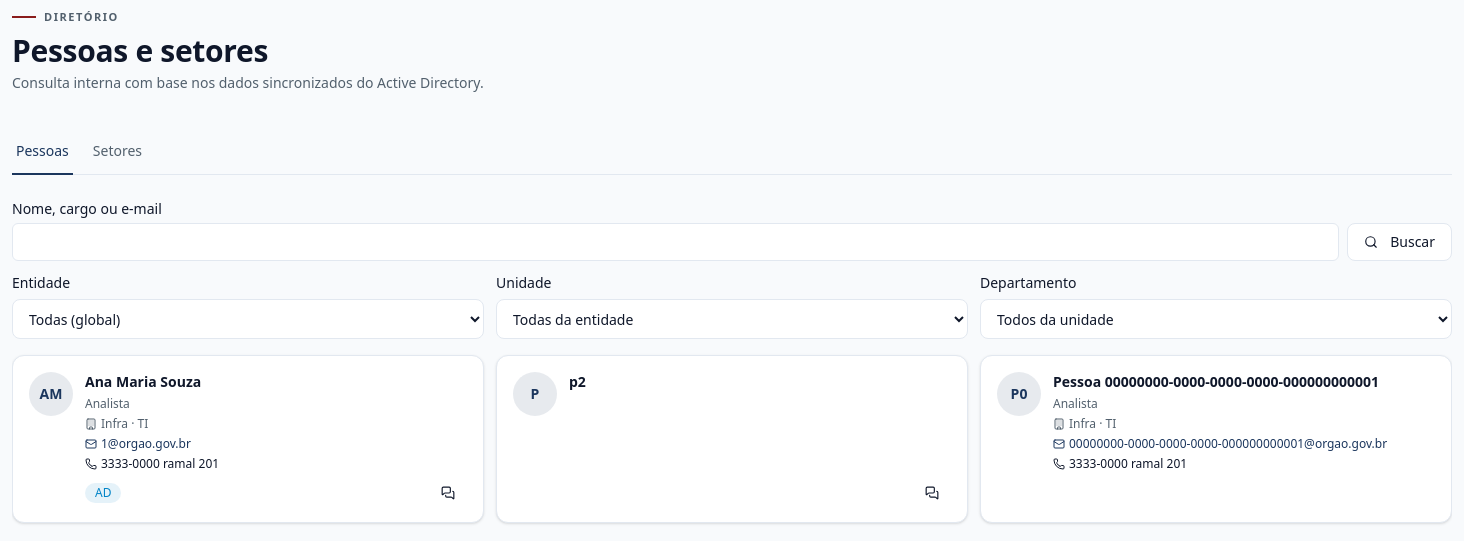
Diretório › busca pessoas, filtra por lotação e abre conversa no Mercúrio
The image size is (1464, 541).
Expected: the text "Ana Maria Souza" is shown, [85,372,201,391]
Expected: the text "AM" is shown, [29,372,73,416]
Click the button named "Conversar com Ana Maria Souza" at [448, 493], box [429,480,467,506]
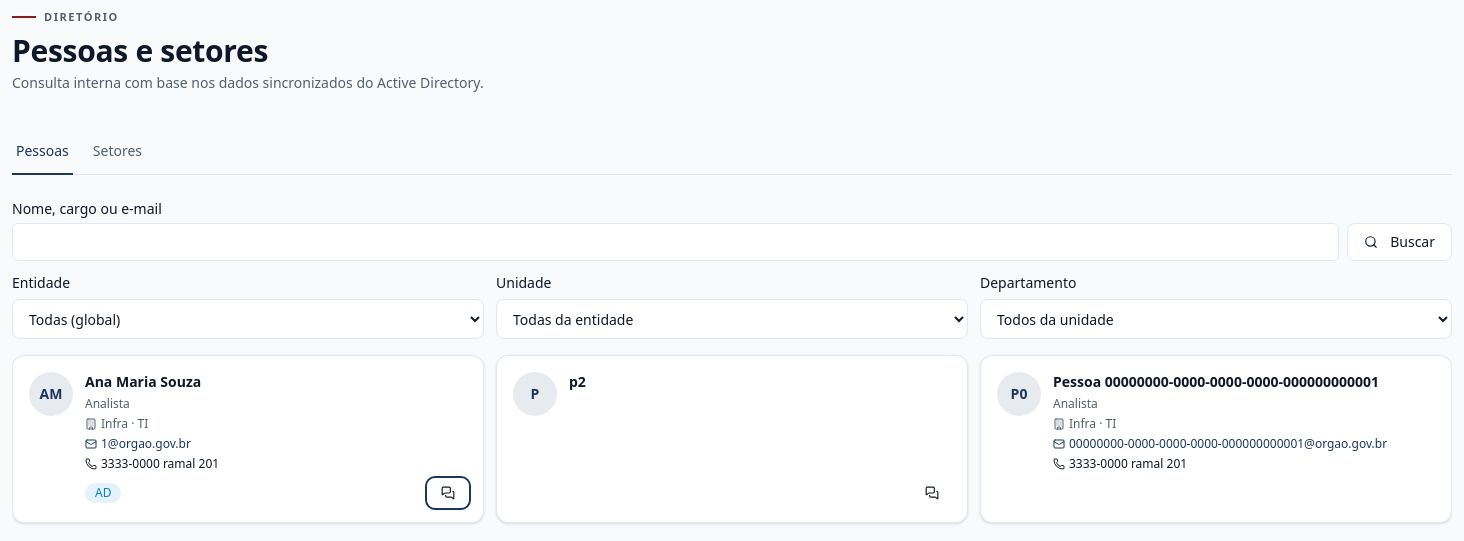
Select "Órgão" in the dropdown labelled "Entidade" at [248, 319], box [12,299,484,339]
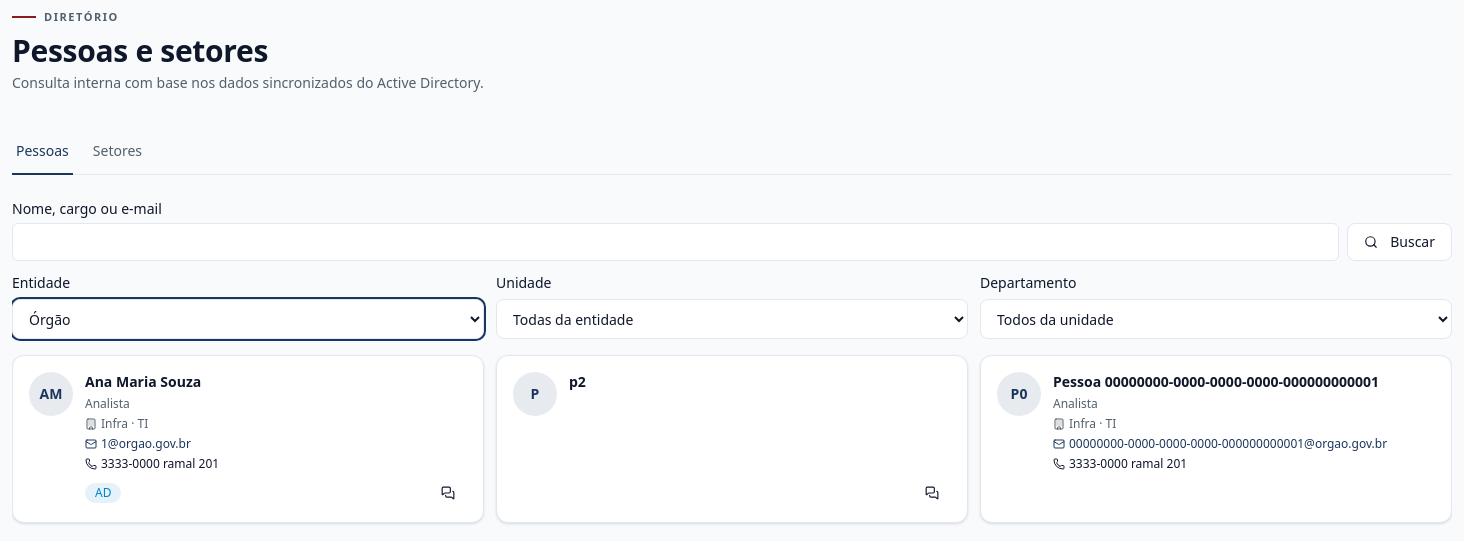
Select "TI" in the dropdown labelled "Unidade" at [732, 319], box [496,299,968,339]
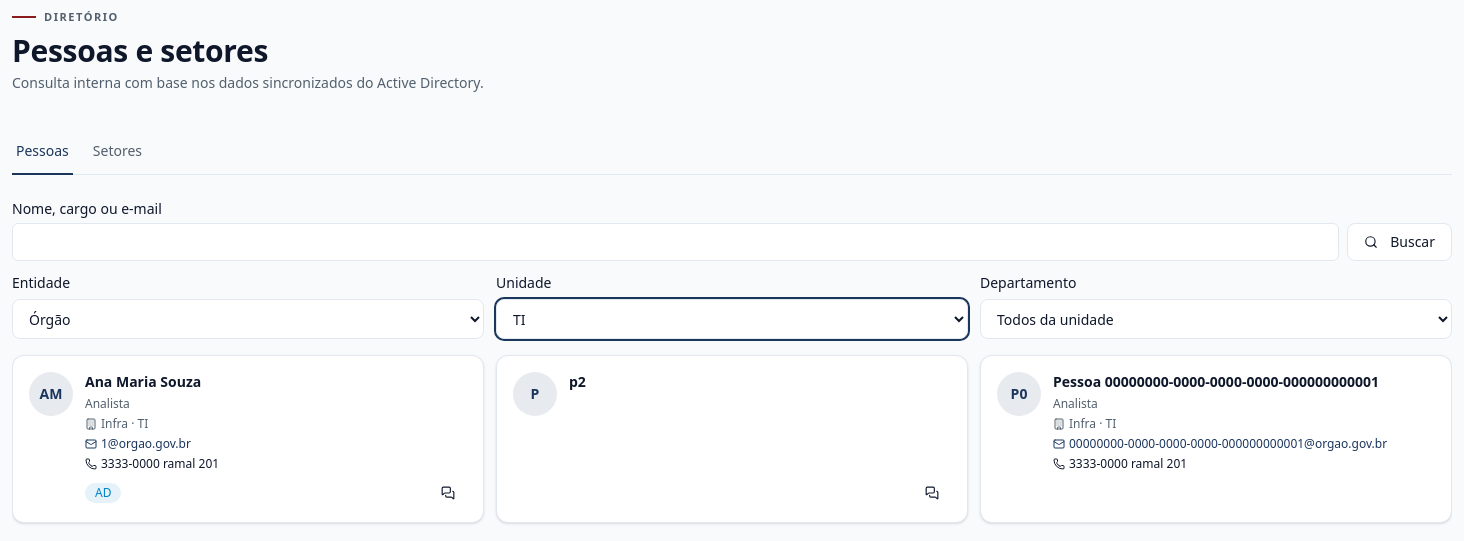
Select "Infra" in the dropdown labelled "Departamento" at [1216, 319], box [980,299,1452,339]
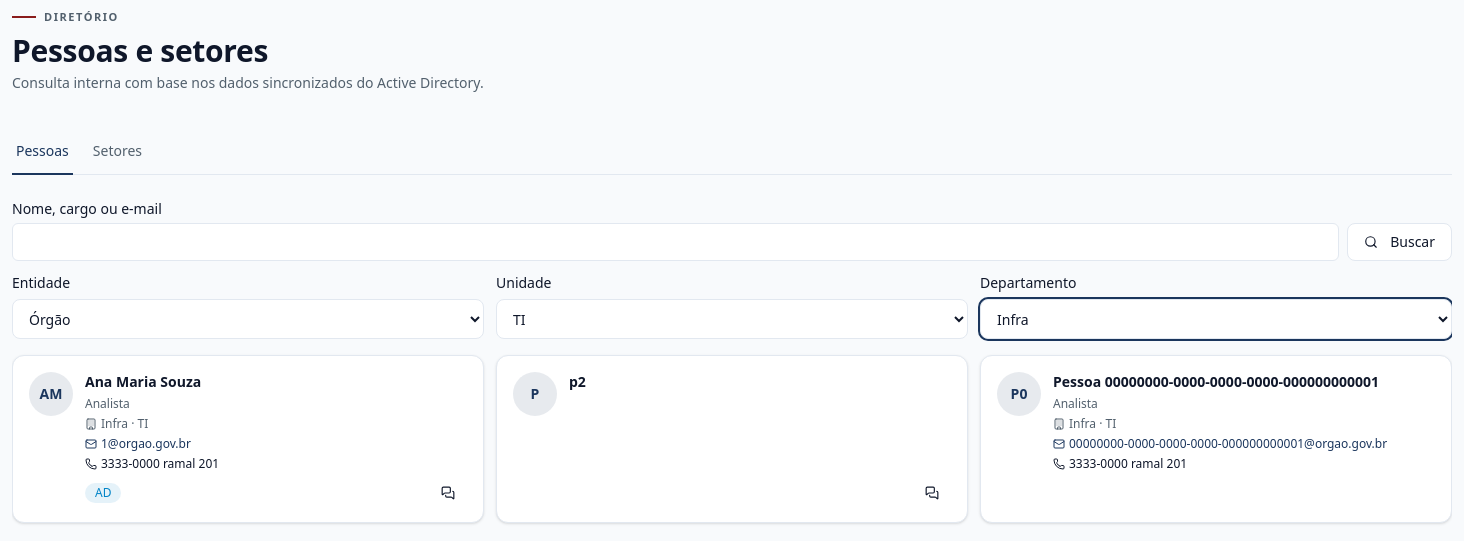
Type " ninguém " into the field labelled "Nome, cargo ou e-mail" at [676, 242], box [12,223,1339,261]
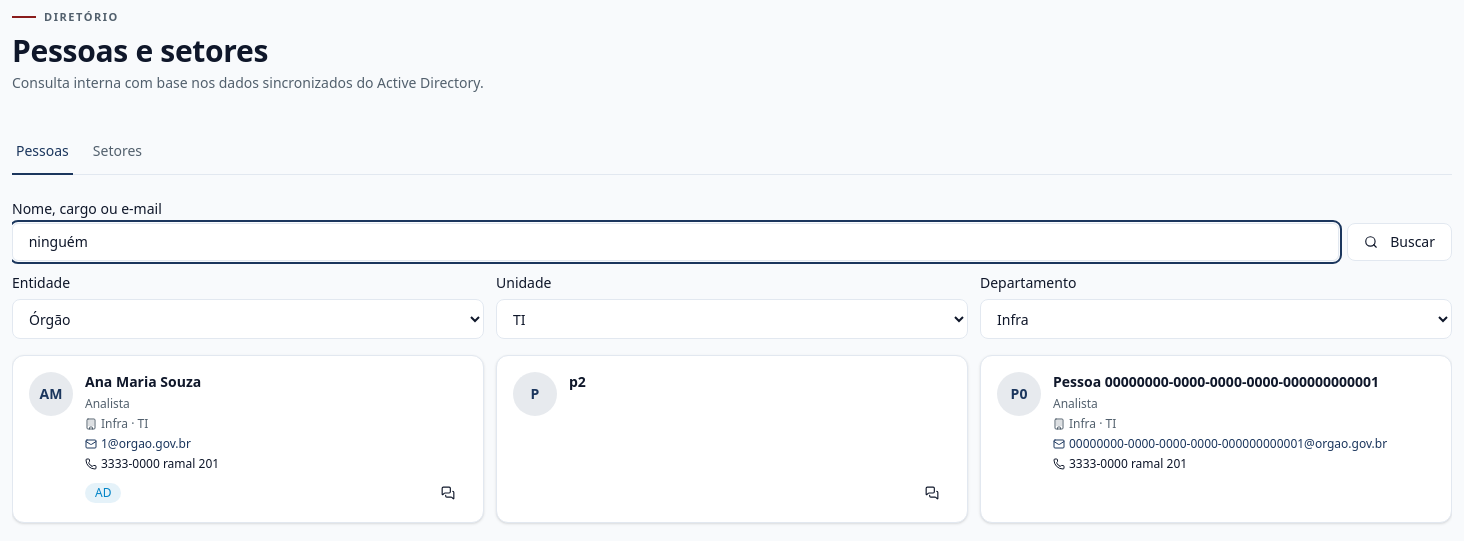
Click the button "Buscar" at [1400, 242], box [1347,223,1452,261]
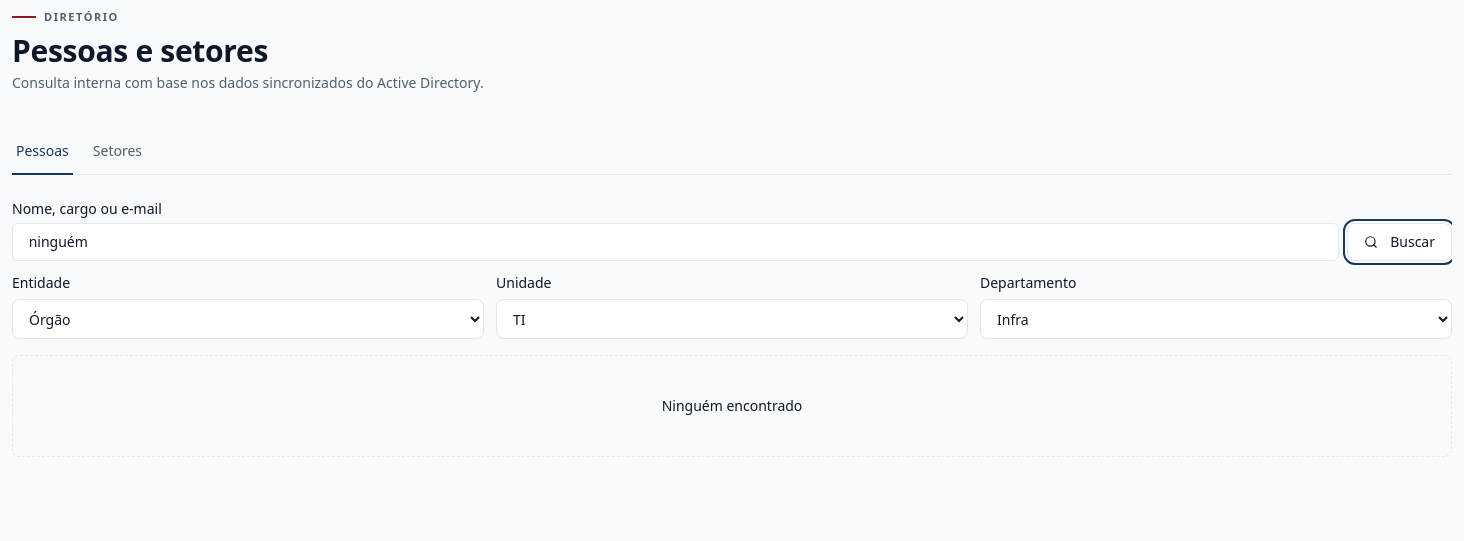
Expected: the text "Ninguém encontrado" is shown, [662,396,802,416]
